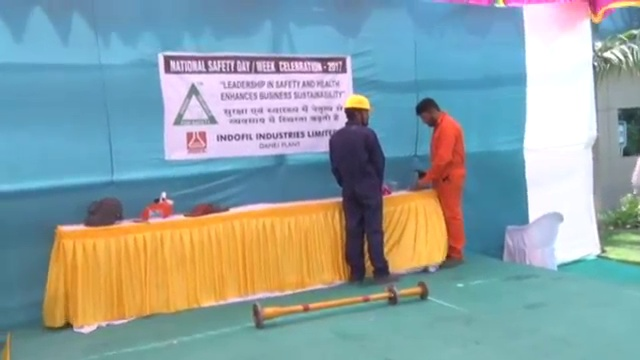helmet: (341, 94, 374, 111)
helmet_off: (414, 97, 445, 127)
helmet_on: (340, 92, 375, 128)
person: (328, 93, 399, 285), (411, 97, 469, 269)
